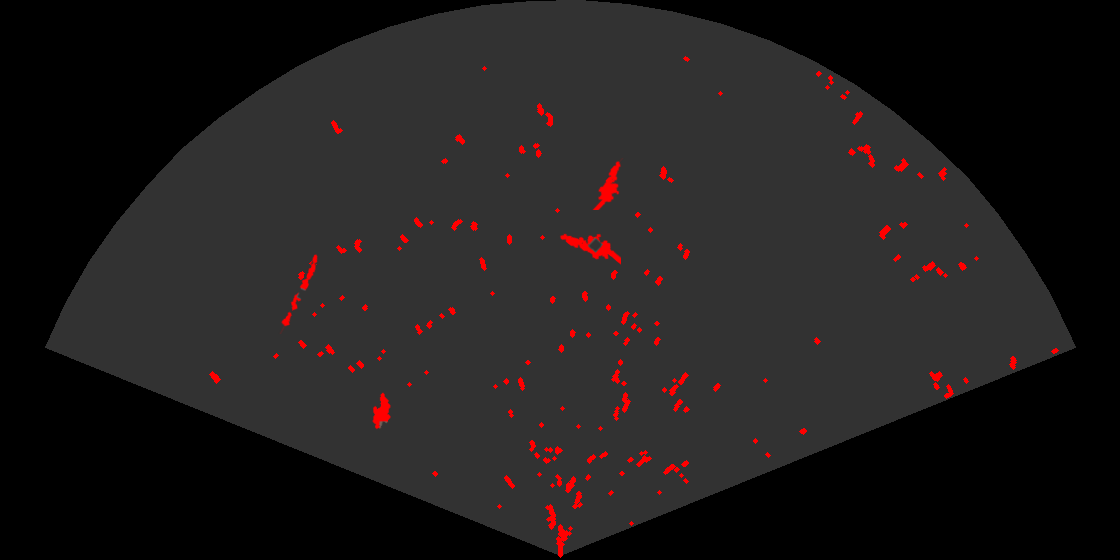AUV: (371, 391, 391, 431)
chain: (278, 253, 319, 334)
frogman: (558, 232, 621, 266), (591, 158, 625, 210)
